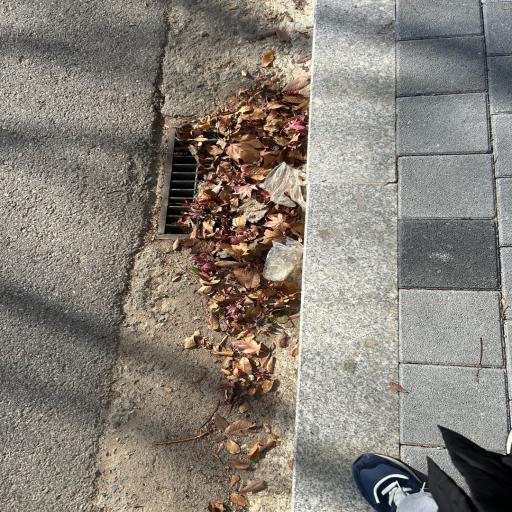debris: (170, 124, 306, 239)
drain: (157, 124, 307, 240)
